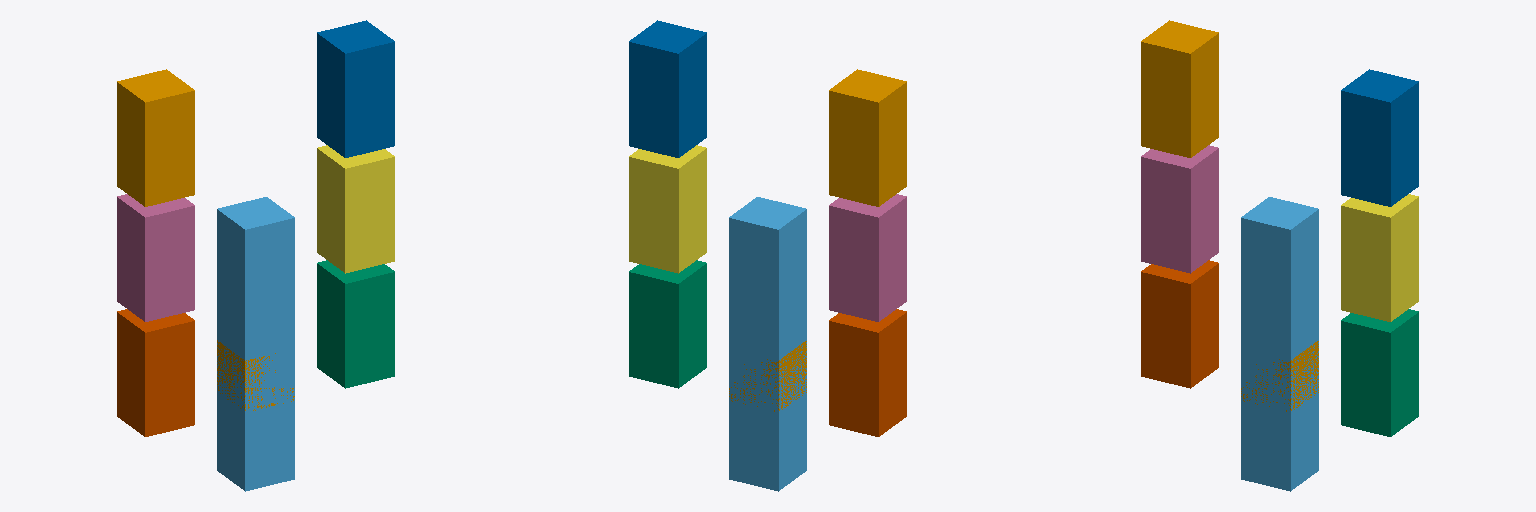
robot.urdf — custom_robot:
<robot name="custom_robot">
    <!-- Base link -->
    <link name="base_link">
        <visual>
            <geometry>
                <box size="0.1 0.1 0.1"/>
            </geometry>
        </visual>
        <collision>
            <geometry>
                <box size="0.2 0.2 0.05"/>
            </geometry>
        </collision>
    </link>

    <!-- Prismatic joint -->
    <joint name="prismatic_joint" type="prismatic">
        <parent link="base_link"/>
        <child link="prismatic_link"/>
        <origin xyz="0 0 0.05" rpy="0 0 0"/>
        <axis xyz="0 0 1"/>
        <limit lower="0.0" upper="1.0" effort="100.0" velocity="0.5"/>
    </joint>

    <link name="prismatic_link">
        <visual>
            <geometry>
                <box size="0.1 0.1 0.5"/>
            </geometry>
        </visual>
        <collision>
            <geometry>
                <box size="0.1 0.1 0.5"/>
            </geometry>
        </collision>
    </link>

    <!-- Revolute joints -->
    <!-- Assuming 6 revolute joints for illustration. Adjust number as needed. -->
    <!-- First Revolute Joint -->
    <joint name="r_joint_1" type="revolute">
        <parent link="prismatic_link"/>
        <child link="r_link_1"/>
        <origin xyz="0.2 0 0" rpy="0 0 0"/>
        <axis xyz="1 0 0"/>
        <limit lower="-1.57" upper="1.57" effort="50.0" velocity="1.0"/>
    </joint>
    <link name="r_link_1">
        <visual>
            <geometry>
                <box size="0.1 0.1 0.2"/>
            </geometry>
        </visual>
        <collision>
            <geometry>
                <box size="0.1 0.1 0.2"/>
            </geometry>
        </collision>
    </link>

    <!-- Second Revolute Joint -->
    <joint name="r_joint_2" type="revolute">
        <parent link="r_link_1"/>
        <child link="r_link_2"/>
        <origin xyz="0 0 0.22" rpy="0 0 0"/>
        <axis xyz="1 0 0"/>
        <limit lower="-1.57" upper="1.57" effort="50.0" velocity="1.0"/>
    </joint>
    <link name="r_link_2">
        <visual>
            <geometry>
                <box size="0.1 0.1 0.2"/>
            </geometry>
        </visual>
        <collision>
            <geometry>
                <box size="0.1 0.1 0.2"/>
            </geometry>
        </collision>
    </link>

    <!-- Third Revolute Joint -->
    <joint name="r_joint_3" type="revolute">
        <parent link="r_link_2"/>
        <child link="r_eef"/>
        <origin xyz="0 0 0.22" rpy="0 0 0"/>
        <axis xyz="1 0 0"/>
        <limit lower="-1.57" upper="1.57" effort="50.0" velocity="1.0"/>
    </joint>
    <link name="r_eef">
        <visual>
            <geometry>
                <box size="0.1 0.1 0.2"/>
            </geometry>
        </visual>
        <collision>
            <geometry>
                <box size="0.1 0.1 0.2"/>
            </geometry>
        </collision>
    </link>

    <!-- Fourth Revolute Joint -->
    <joint name="l_joint_1" type="revolute">
        <parent link="prismatic_link"/>
        <child link="l_link_1"/>
        <origin xyz="-0.2 0 0" rpy="0 0 0"/>
        <axis xyz="1 0 0"/>
        <limit lower="-1.57" upper="1.57" effort="50.0" velocity="1.0"/>
    </joint>
    <link name="l_link_1">
        <visual>
            <geometry>
                <box size="0.1 0.1 0.2"/>
            </geometry>
        </visual>
        <collision>
            <geometry>
                <box size="0.1 0.1 0.2"/>
            </geometry>
        </collision>
    </link>

    <!-- Fifth Revolute Joint -->
    <joint name="l_joint_2" type="revolute">
        <parent link="l_link_1"/>
        <child link="l_link_2"/>
        <origin xyz="0 0 0.22" rpy="0 0 0"/>
        <axis xyz="1 0 0"/>
        <limit lower="-1.57" upper="1.57" effort="50.0" velocity="1.0"/>
    </joint>
    <link name="l_link_2">
        <visual>
            <geometry>
                <box size="0.1 0.1 0.2"/>
            </geometry>
        </visual>
        <collision>
            <geometry>
                <box size="0.1 0.1 0.2"/>
            </geometry>
        </collision>
    </link>

    <!-- Sixth Revolute Joint -->
    <joint name="l_joint_3" type="revolute">
        <parent link="l_link_2"/>
        <child link="l_link_3"/>
        <origin xyz="0 0 0.22" rpy="0 0 0"/>
        <axis xyz="1 0 0"/>
        <limit lower="-1.57" upper="1.57" effort="50.0" velocity="1.0"/>
    </joint>

    <link name="l_link_3"/>

    <joint name="l_dummy_joint" type="fixed">
        <parent link="l_link_3"/>
        <child link="l_eef"/>
    </joint>
    <link name="l_eef">
        <visual>
            <geometry>
                <box size="0.1 0.1 0.2"/>
            </geometry>
        </visual>
        <collision>
            <geometry>
                <box size="0.1 0.1 0.2"/>
            </geometry>
        </collision>
    </link>
</robot>

--- Render facts (derived) ---
Views: 3 orthographic renders of the robot side by side, from view 1: azimuth 30°, elevation 25°; view 2: azimuth 150°, elevation 25°; view 3: azimuth 330°, elevation 25°.
Model custom_robot with 9 links and 8 joints (6 revolute, 1 prismatic, 1 fixed), rooted at base_link, posed all joints at 0.
Links seen in each view (by area): view 1: prismatic_link, r_eef, l_eef, r_link_1, r_link_2, l_link_1, l_link_2, base_link; view 2: prismatic_link, r_eef, l_eef, r_link_1, r_link_2, l_link_1, l_link_2, base_link; view 3: prismatic_link, l_eef, r_eef, l_link_1, r_link_1, r_link_2, l_link_2, base_link.
Boxes of the visible links, x1,y1,x2,y2 form: prismatic_link: (217,197,294,491); r_eef: (317,20,394,157); l_eef: (117,69,194,206); r_link_1: (317,260,394,388); r_link_2: (317,145,394,273); l_link_1: (117,309,194,436); l_link_2: (117,194,194,321); base_link: (217,340,294,410); prismatic_link: (729,197,806,491); r_eef: (629,20,706,157); l_eef: (829,69,906,206); r_link_1: (629,260,706,388); r_link_2: (629,145,706,273); l_link_1: (829,309,906,436); l_link_2: (829,194,906,321); base_link: (729,341,806,411); prismatic_link: (1241,197,1318,491); l_eef: (1141,20,1218,157); r_eef: (1341,69,1418,206); l_link_1: (1141,260,1218,388); r_link_1: (1341,309,1418,436); r_link_2: (1341,194,1418,321); l_link_2: (1141,145,1218,273); base_link: (1241,341,1318,411).
Size in the robot's own frame: 0.5 by 0.1 by 0.79 metres.
Geometry: primitives only (box / cylinder / sphere), no mesh files.
